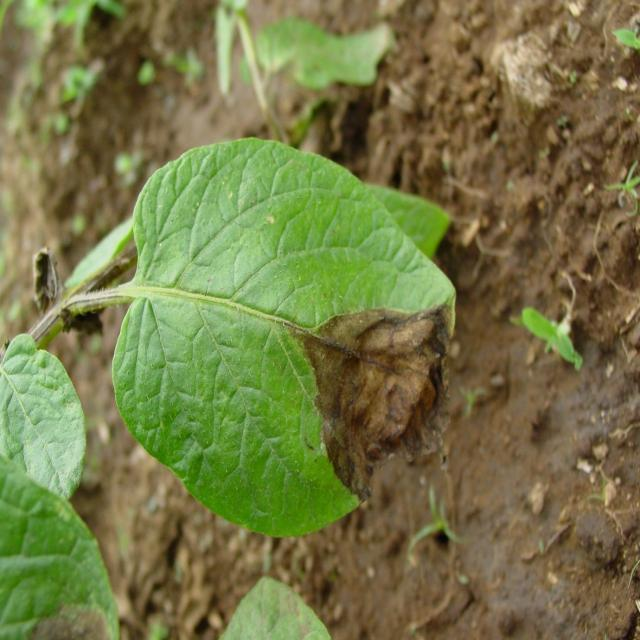Healthy Leaf: (2, 336, 88, 496)
